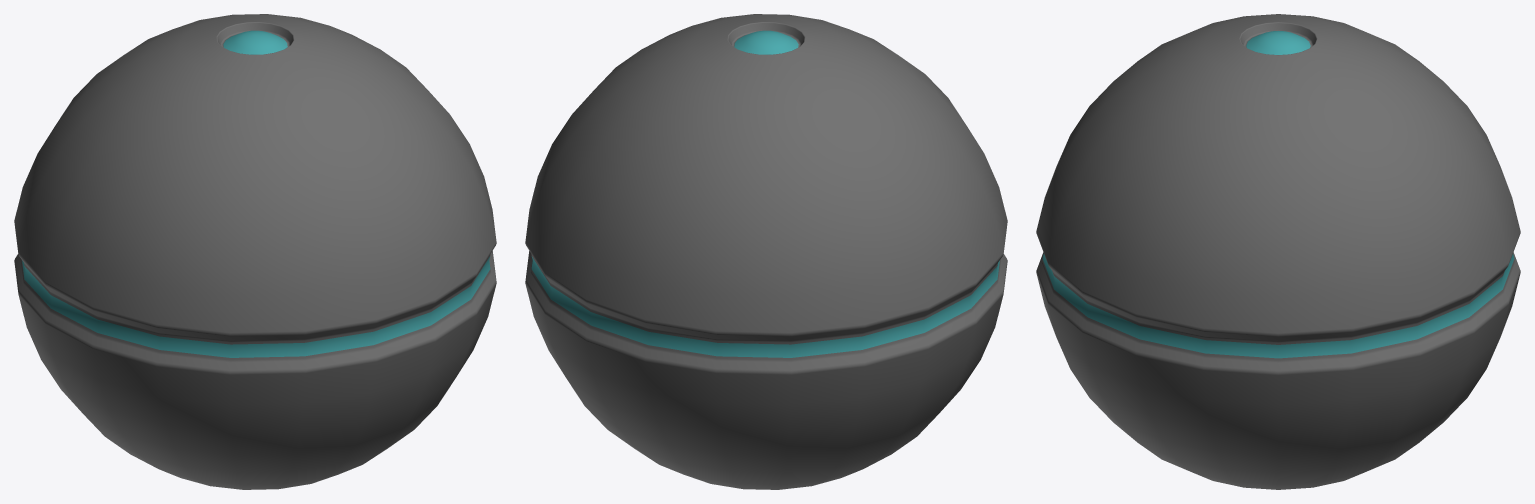
File: SciFi_Light_Sphere.fbx
3 views of the same model, side by side, from view 1: azimuth 30°, elevation 25°; view 2: azimuth 150°, elevation 25°; view 3: azimuth 270°, elevation 25° (orthographic).
Visible parts, largest first — view 1: pSphere46; view 2: pSphere46; view 3: pSphere46.
Part boxes in pixels (box(x1,y1,x2,y2)): pSphere46: box(14, 14, 496, 489); pSphere46: box(525, 14, 1007, 489); pSphere46: box(1036, 14, 1520, 489).
Size of the model in its own units: 8.25 by 8.14 by 8.25.
